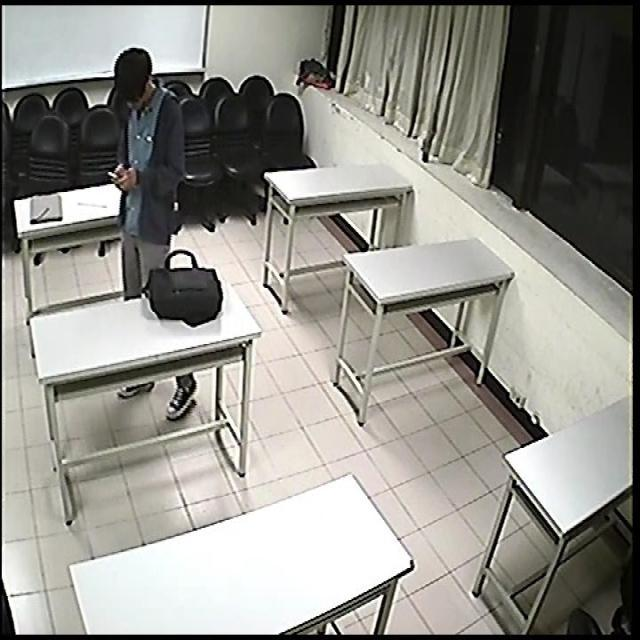abandoned-object: (147, 238, 235, 326)
